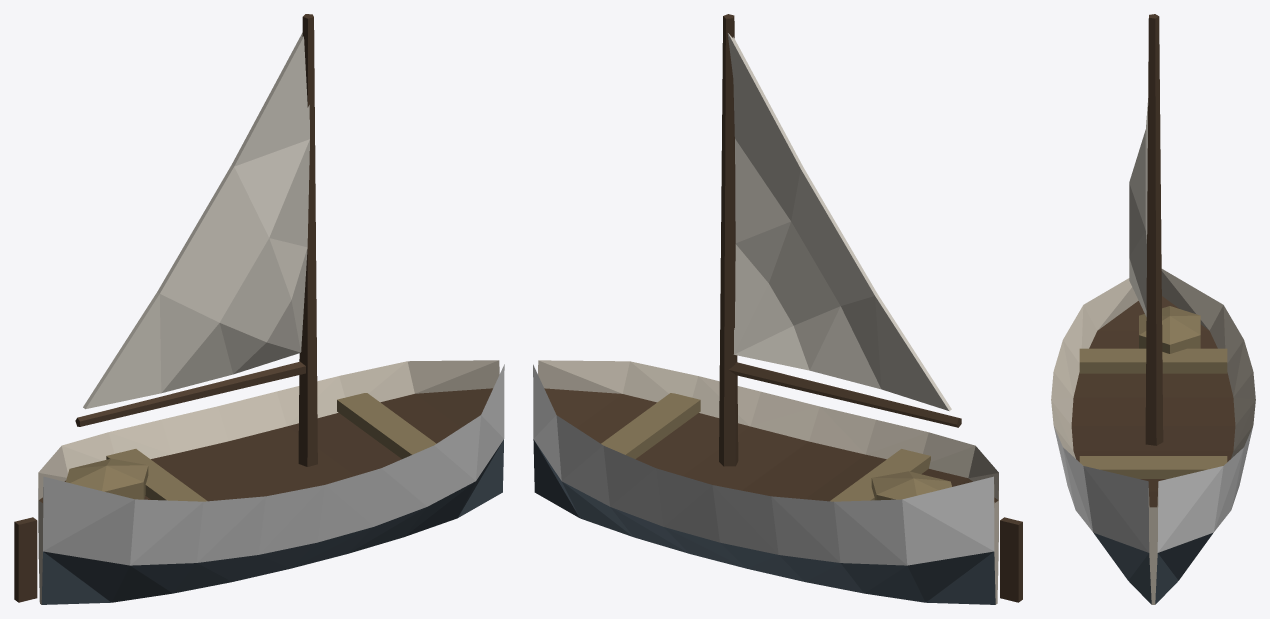
File: dory.glb
3 views of the same model, side by side, from view 1: azimuth 30°, elevation 25°; view 2: azimuth 150°, elevation 25°; view 3: azimuth 270°, elevation 25° (orthographic). The views are drawn at different scales.
Visible parts, largest first — view 1: trim, sail, hull, mast; view 2: trim, sail, hull, mast; view 3: trim, hull, mast, sail.
Part boxes in pixels (x1,y1,x2,y2): trim: [14, 360, 503, 604]; sail: [83, 32, 309, 409]; hull: [43, 364, 504, 565]; mast: [75, 14, 317, 466]; trim: [533, 360, 1022, 604]; sail: [727, 33, 951, 411]; hull: [533, 364, 994, 565]; mast: [719, 14, 961, 466]; trim: [1051, 269, 1255, 604]; hull: [1054, 427, 1252, 552]; mast: [1145, 14, 1163, 445]; sail: [1129, 98, 1148, 316].
Size of the model in its own units: 1.3 by 1.36 by 0.5.
